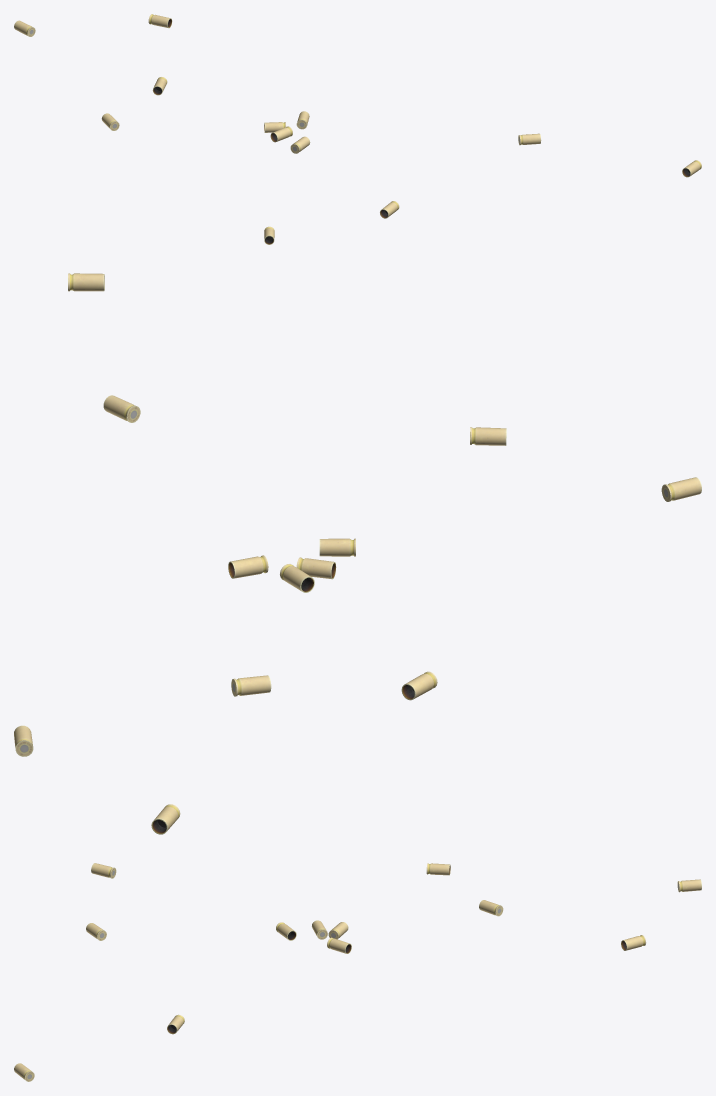
File: SM_Ammo_Pile_01c.glb
3 views of the same model, one above another, from view 1: azimuth 30°, elevation 25°; view 2: azimuth 150°, elevation 25°; view 3: azimuth 270°, elevation 25° (orthographic). The views are drawn at different scales.
Visible parts, largest first — view 1: SM_Ammo_Pile_01c; view 2: SM_Ammo_Pile_01c; view 3: SM_Ammo_Pile_01c.
Boxes of the visible parts, x1=… form: SM_Ammo_Pile_01c: x1=14, y1=14, x2=701, y2=244; SM_Ammo_Pile_01c: x1=14, y1=273, x2=701, y2=834; SM_Ammo_Pile_01c: x1=14, y1=863, x2=701, y2=1081.
Bounding box in the file's own units: 0.4379 × 0.0103 × 0.602.
Materials: 1 (1 with a texture image).
